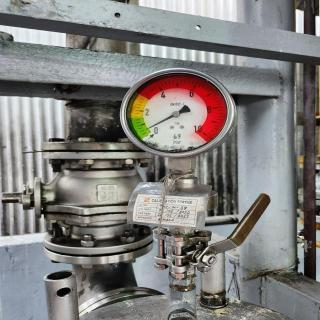gauge: (118, 68, 236, 158), (134, 126, 160, 152), (193, 124, 215, 144), (172, 110, 180, 117), (145, 126, 149, 132)
